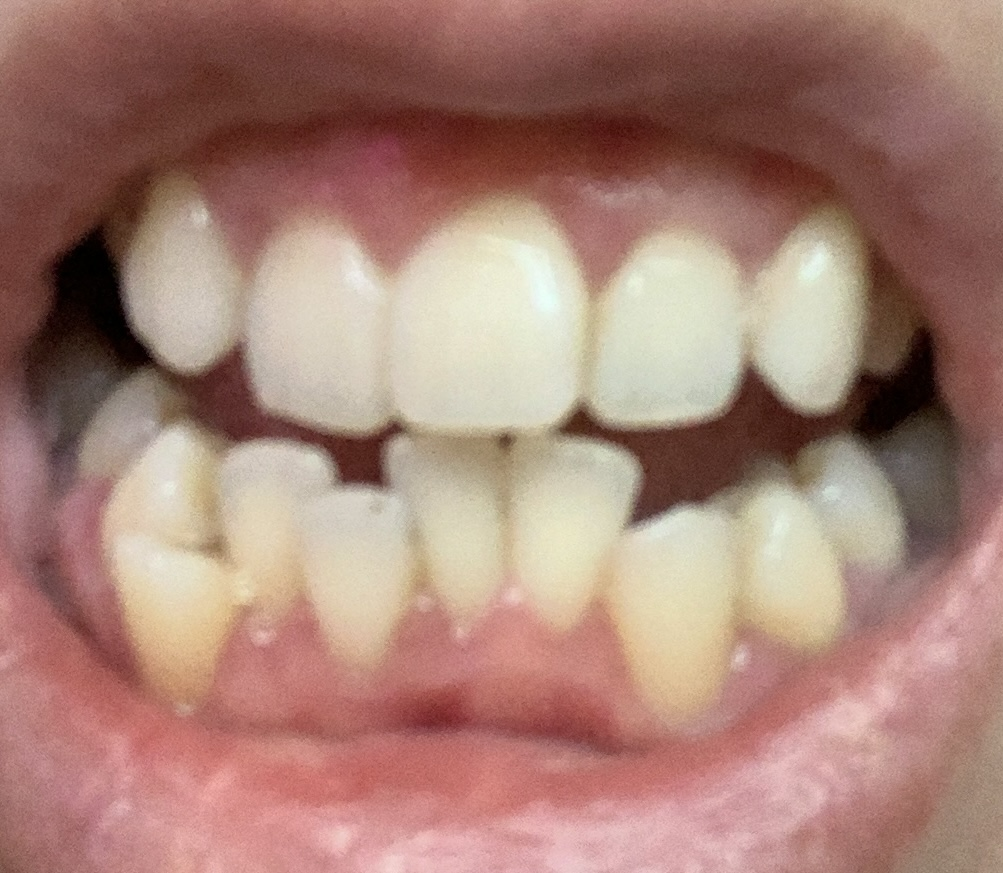teeth: (401, 208, 570, 428), (602, 239, 724, 420), (259, 237, 371, 428), (516, 447, 626, 630), (629, 518, 732, 712), (776, 215, 867, 389), (405, 445, 497, 615), (134, 212, 210, 359), (323, 501, 385, 666), (238, 460, 314, 594), (126, 557, 196, 696), (751, 492, 818, 620), (834, 451, 894, 554), (130, 427, 193, 512), (80, 389, 146, 452), (924, 423, 951, 499)
